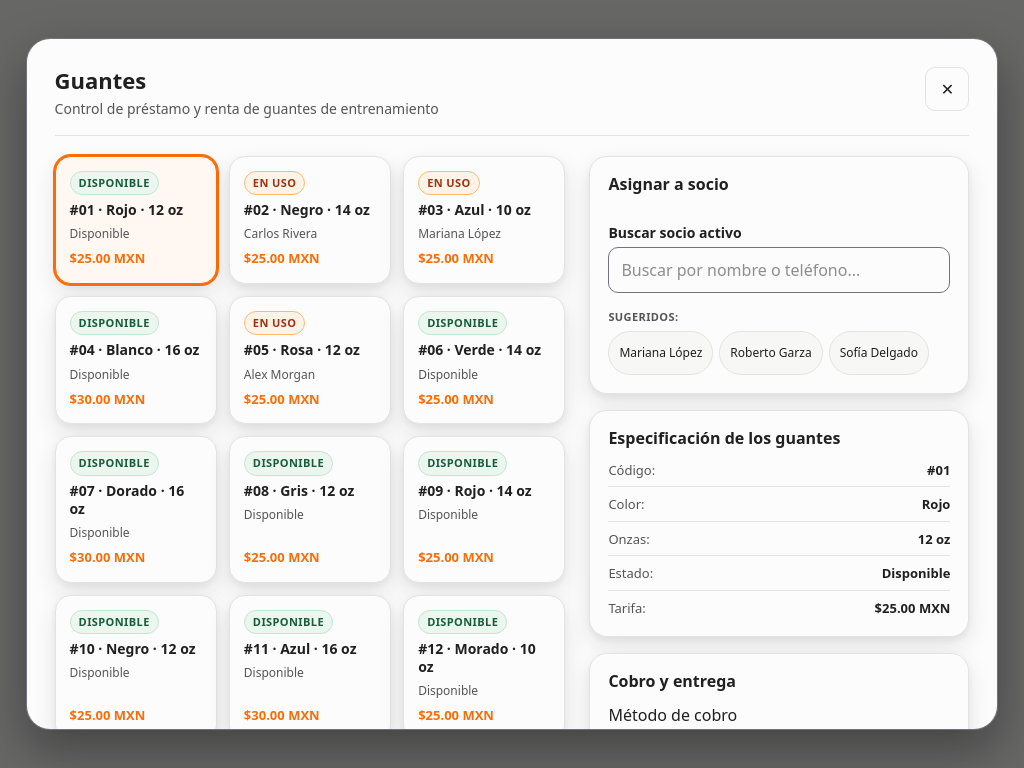
Test case: GuantesModal › selects a rented glove, displays return button, and restores glove to available
# Select initially rented glove #02 (rented to Carlos Rivera)
Click the button "#02 · Negro · 14 oz". click: (310, 220)
box: x1=229 y1=156 x2=391 y2=284
(page scrolled)
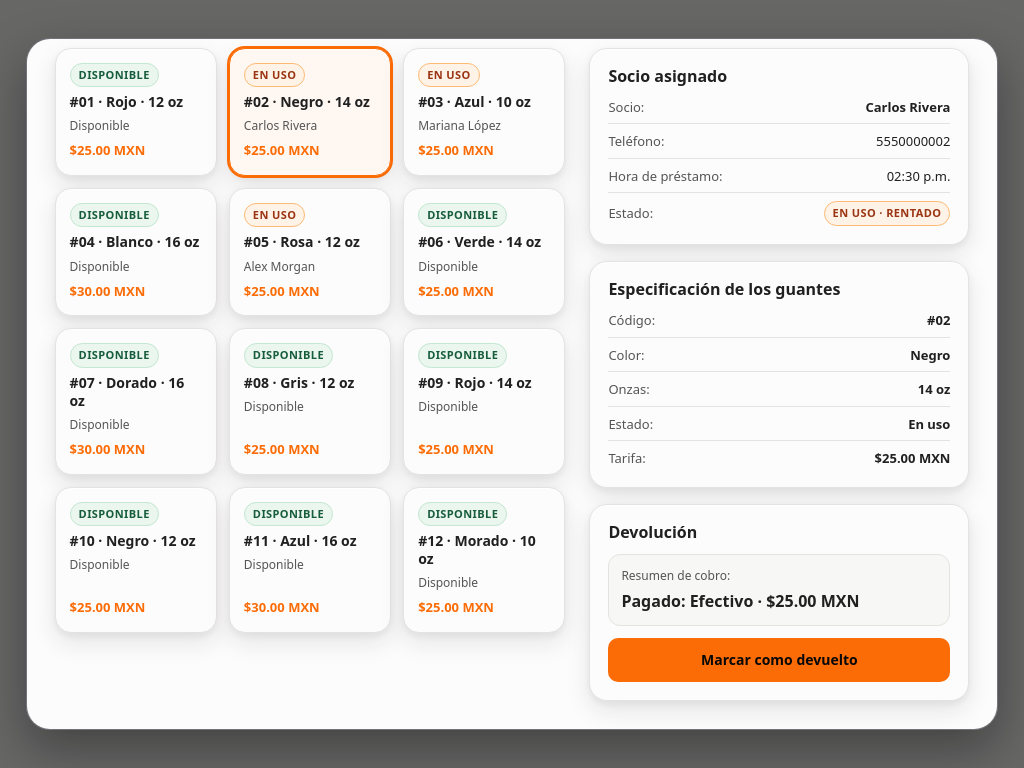
Result: the heading "Socio asignado" is shown at x1=608 y1=65 x2=727 y2=87
Result: the heading "Devolución" is shown at x1=608 y1=521 x2=697 y2=543
Result: the button "Marcar como devuelto" is shown
# Click return
Click the button "Marcar como devuelto". click: (779, 660)
box: x1=608 y1=638 x2=950 y2=682
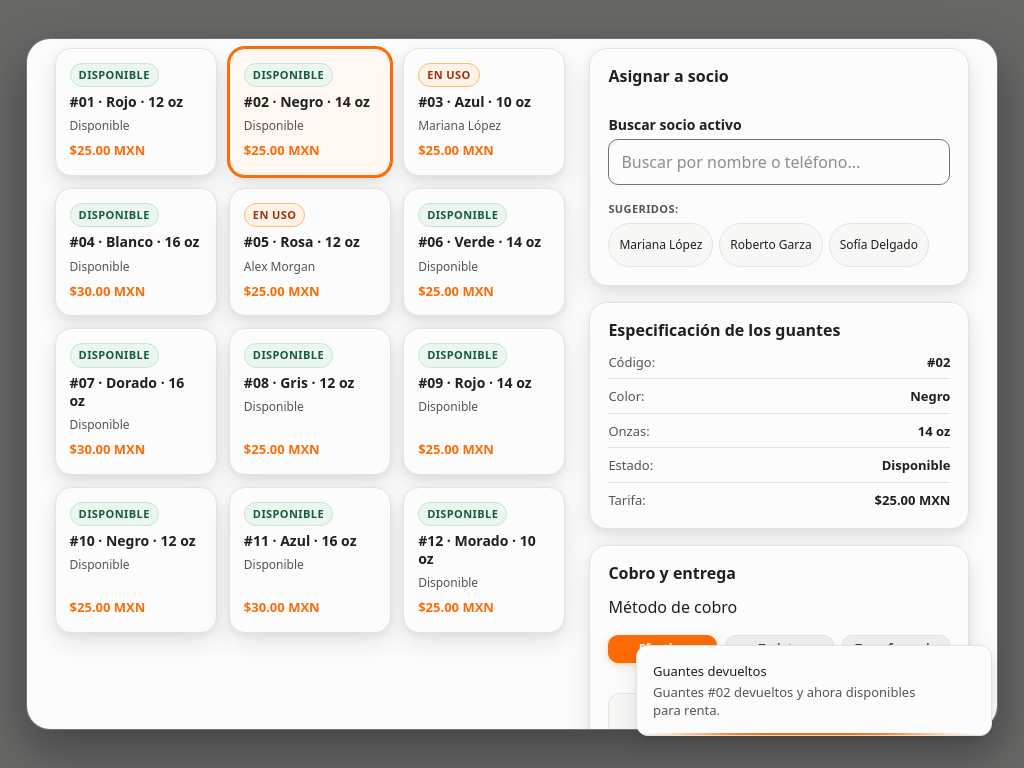
Result: the text "Guantes devueltos" is shown at x1=653 y1=662 x2=767 y2=680
Result: the text "Guantes #02 devueltos y ahora disponibles para renta." is shown at x1=653 y1=683 x2=923 y2=719
Result: the button "#02 · Negro · 14 oz" shows "Disponible" at x1=229 y1=48 x2=391 y2=176
